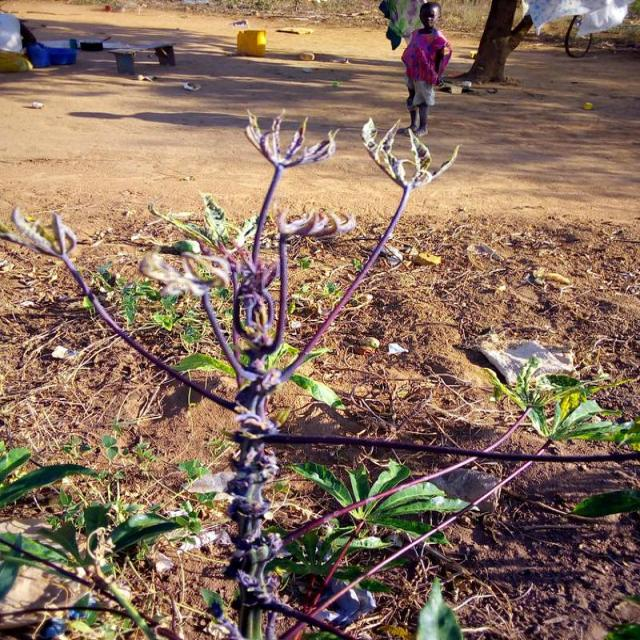cassava leaf: (110, 511, 184, 551)
